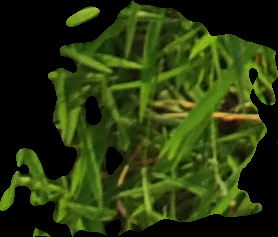grass: (1, 1, 277, 237)
